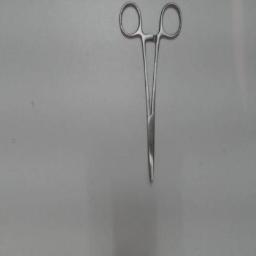Crile Artery Forceps: (117, 0, 185, 188)
